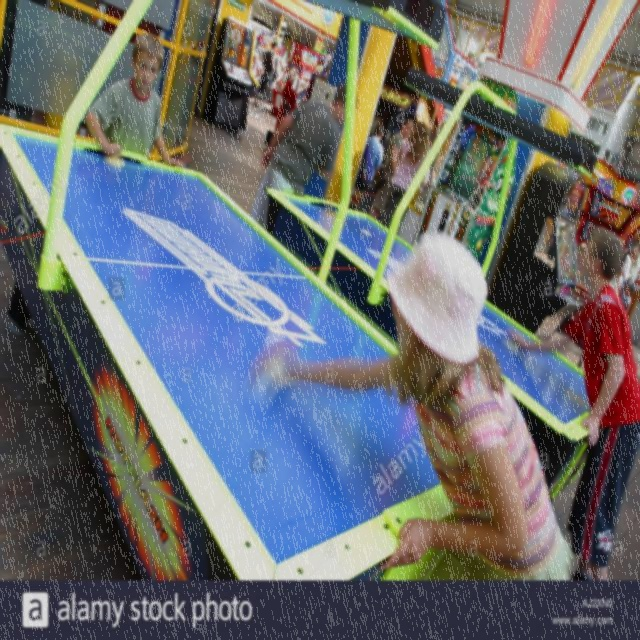pessoa: (260, 228, 575, 582), (504, 225, 640, 582), (84, 31, 188, 170), (251, 82, 348, 230), (368, 117, 416, 221), (369, 118, 416, 221), (251, 38, 279, 113), (358, 123, 384, 186), (618, 241, 640, 289), (281, 69, 299, 113), (620, 277, 638, 315), (252, 50, 266, 96)
